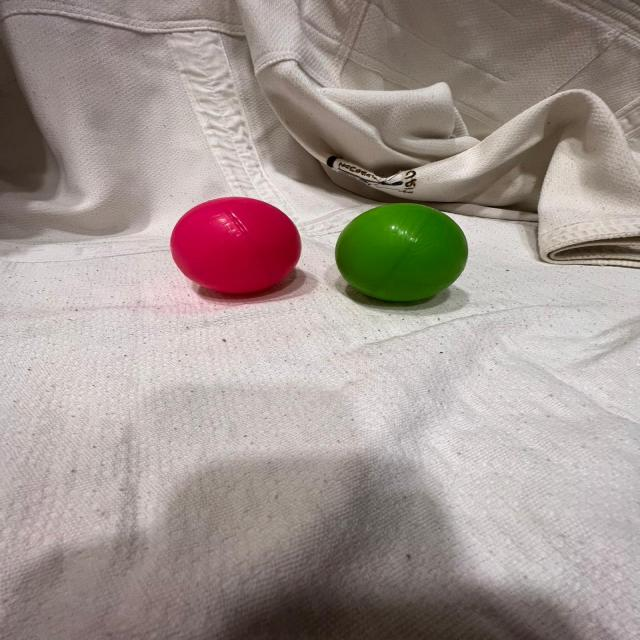ball: (330, 199, 470, 306), (168, 193, 304, 296)
